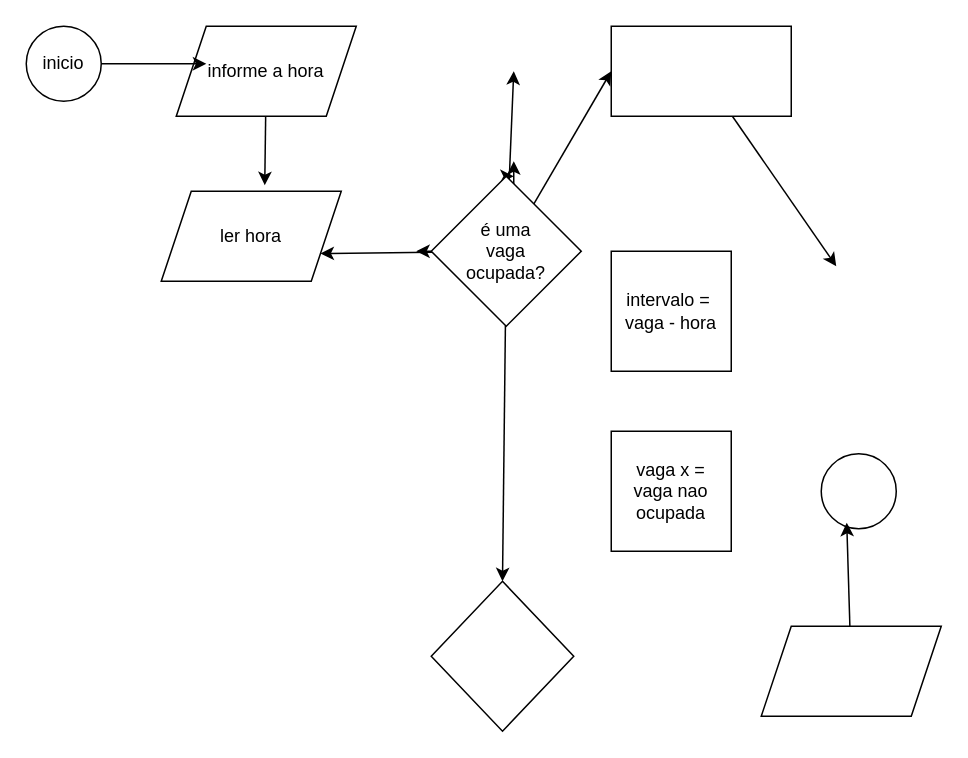
This 968x758 diagram has some shape labels left out. Here are the shapes that lost their labels. From the top down, the centre of each, then its label:
At point (700, 70): "vaga x = hora".
At point (858, 490): "fim".
At point (502, 655): "hora < vaga []".
